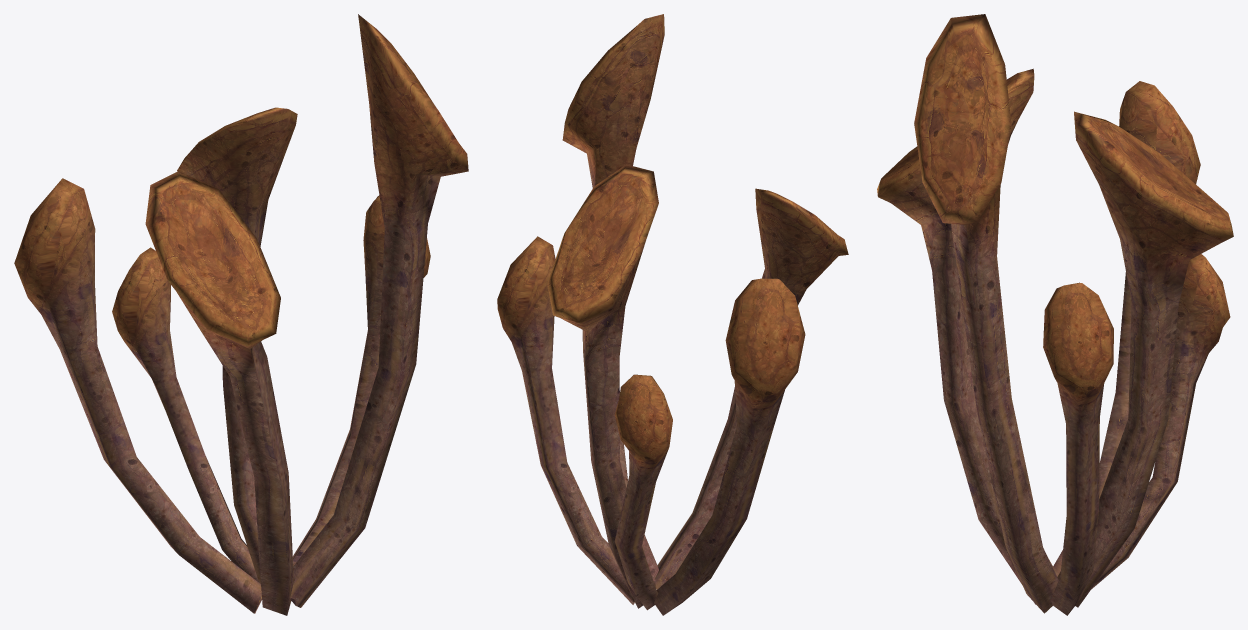
The model's file is Shroom_Plant2_3_L1.fbx.
3 renders of one model, left to right at view 1: azimuth 30°, elevation 25°; view 2: azimuth 150°, elevation 25°; view 3: azimuth 270°, elevation 25°, orthographic. The views are drawn at different scales.
Parts seen in each view (by area): view 1: polySurface291; view 2: polySurface291; view 3: polySurface291.
Part boxes in pixels (x1,y1,x2,y2): polySurface291: [14, 14, 468, 615]; polySurface291: [497, 14, 848, 615]; polySurface291: [877, 14, 1233, 615].
Bounding box in the file's own units: 63.53 × 102 × 53.18.
